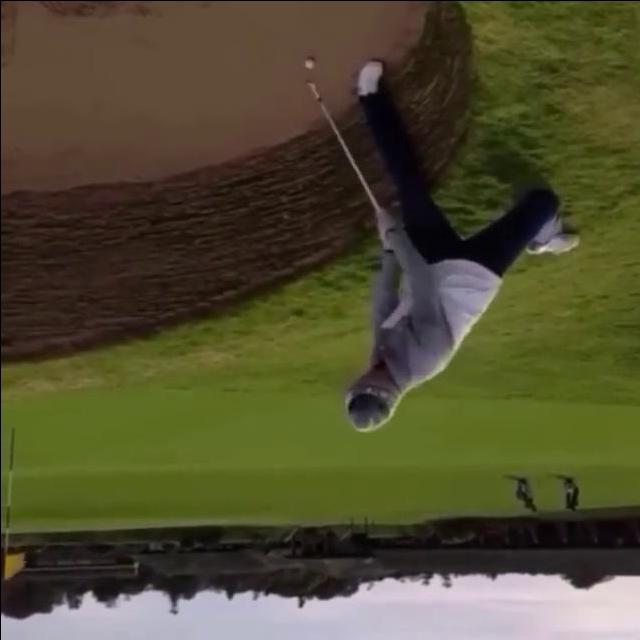golf ball: (302, 59, 313, 68)
golf club-handle: (302, 77, 378, 209)
golf club-head: (302, 77, 314, 88)
